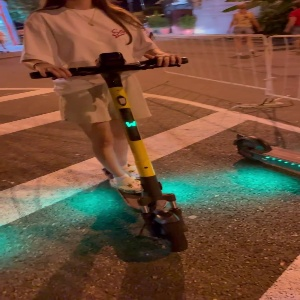human on a scooter: (19, 1, 191, 253)
